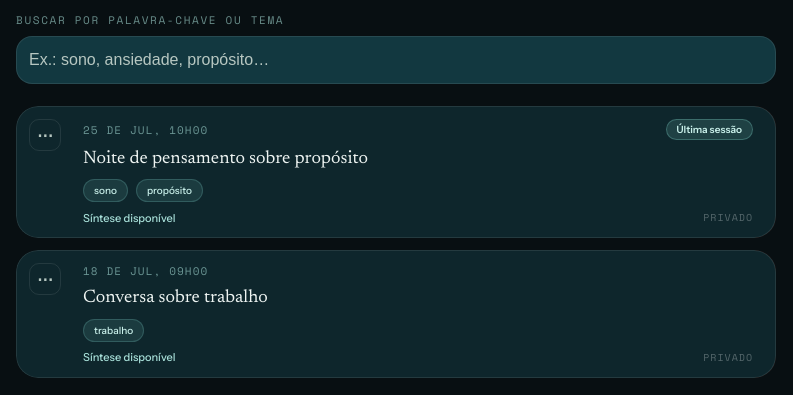
Test case: HistoryList › remove o cartão da lista quando a sessão é excluída
Click the button named "Ações rápidas" at (45, 135), box [29,119,61,151]
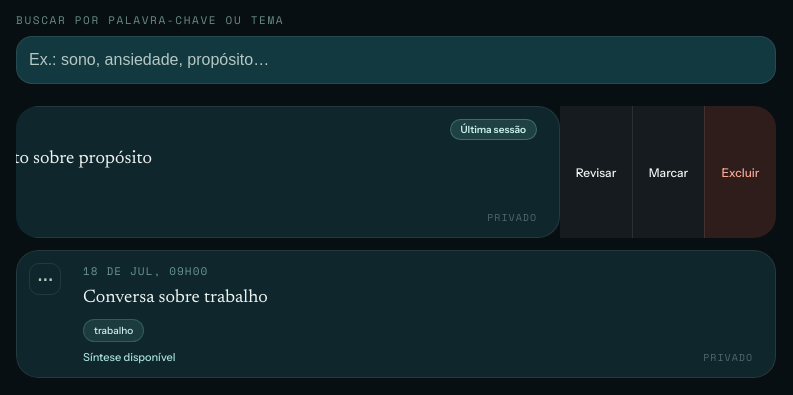
Click the button "Excluir" at (740, 172), box [704,106,776,238]
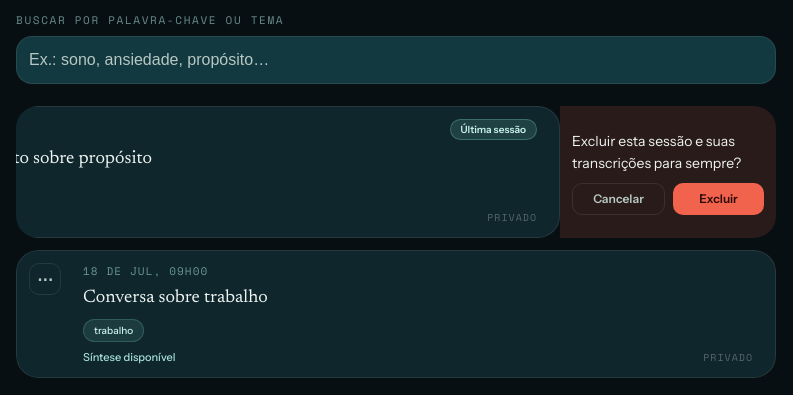
Click the button "Excluir" at (718, 199), box [673,183,764,215]
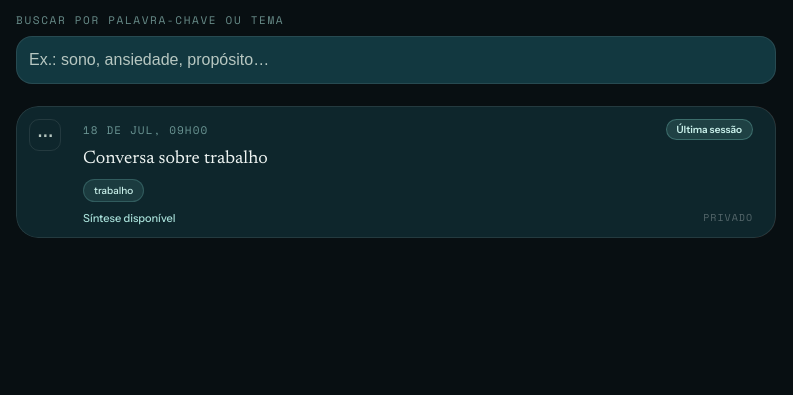
Expected: the heading "Conversa sobre trabalho" is shown, [83,150,268,168]
Expected: the link "Noite de pensamento sobre propósito" is gone
